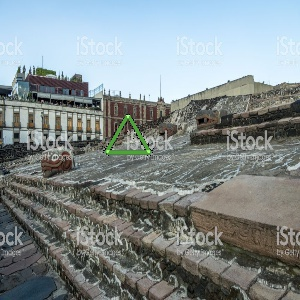triangle: (101, 111, 156, 158)
